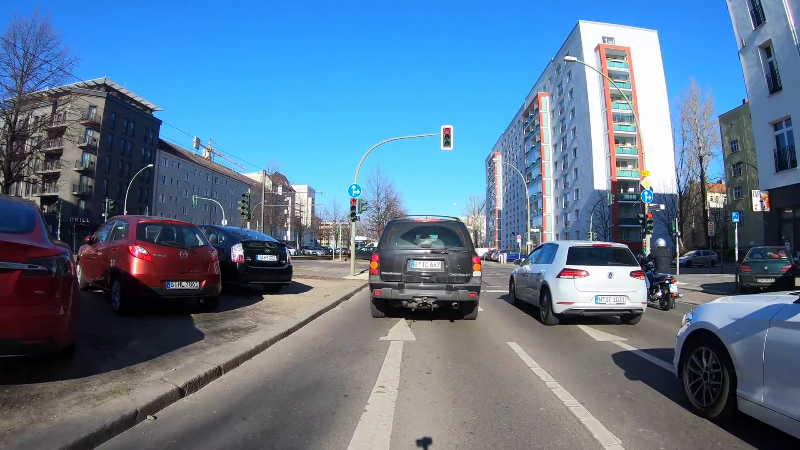Plate: (165, 278, 201, 290), (595, 294, 627, 304), (409, 260, 442, 269), (253, 253, 277, 263), (756, 276, 775, 283)
